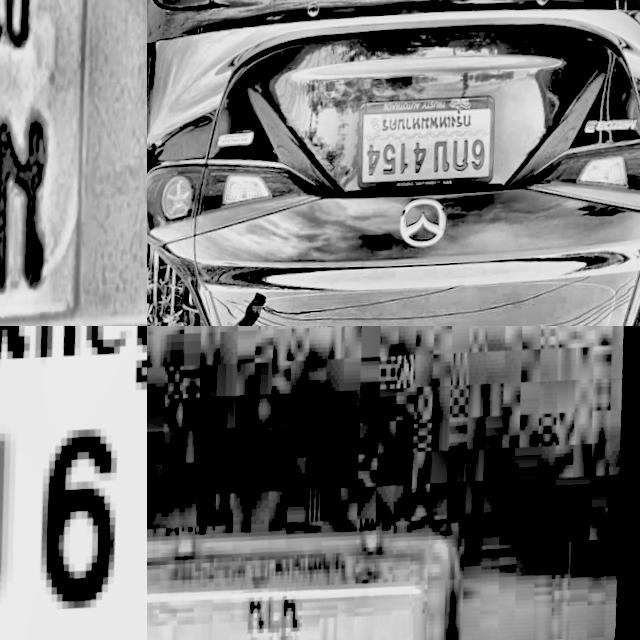license-plate: (0, 0, 147, 326), (0, 326, 147, 640), (147, 523, 475, 640), (361, 89, 507, 190)
